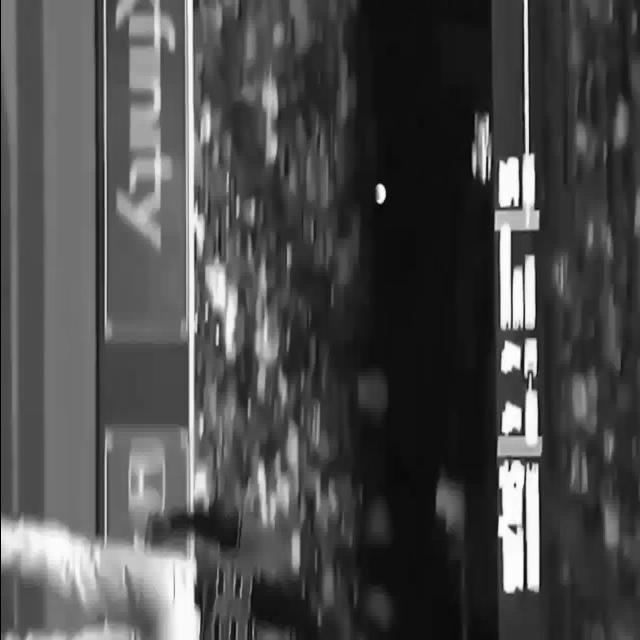baseball: (374, 182, 386, 205)
baseball_glove: (144, 512, 172, 550)
